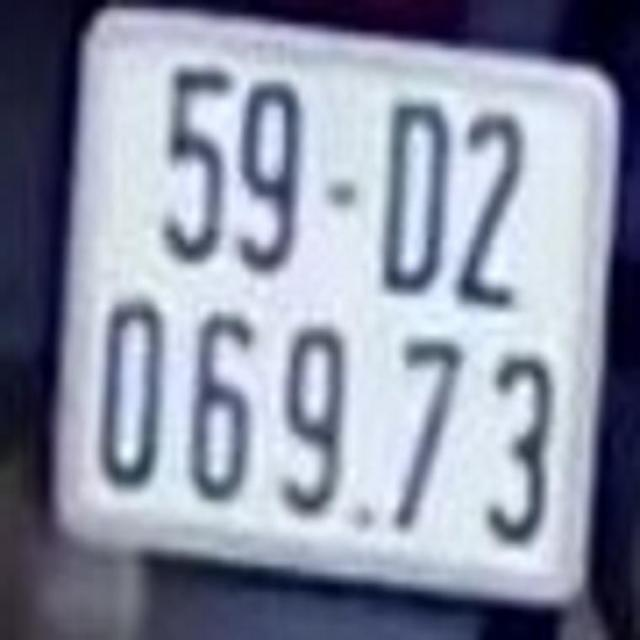0: (88, 290, 167, 482)
2: (460, 100, 522, 312)
3: (485, 344, 555, 546)
5: (165, 60, 229, 263)
6: (189, 300, 256, 500)
7: (389, 329, 464, 528)
9: (280, 320, 348, 516), (234, 75, 298, 271)
D: (382, 94, 449, 300)
